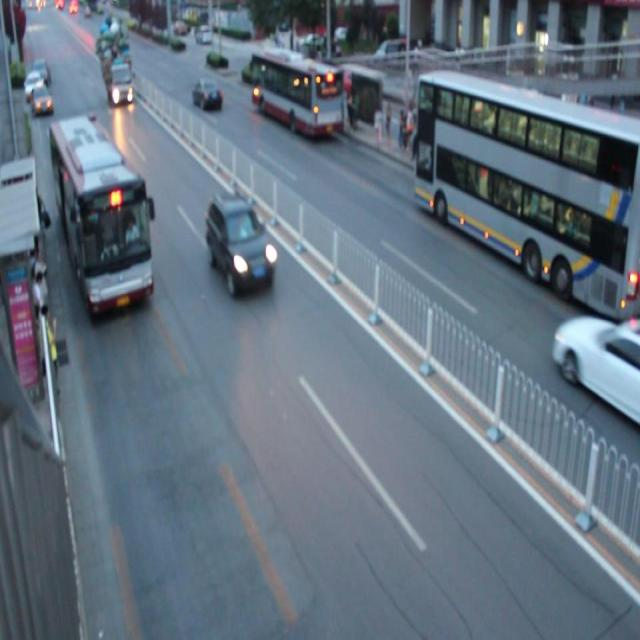bus: (98, 19, 134, 107)
car: (551, 312, 640, 428), (205, 194, 276, 299), (192, 78, 223, 113), (30, 83, 54, 117)
van: (416, 74, 640, 318), (47, 120, 154, 316), (250, 49, 342, 137)
